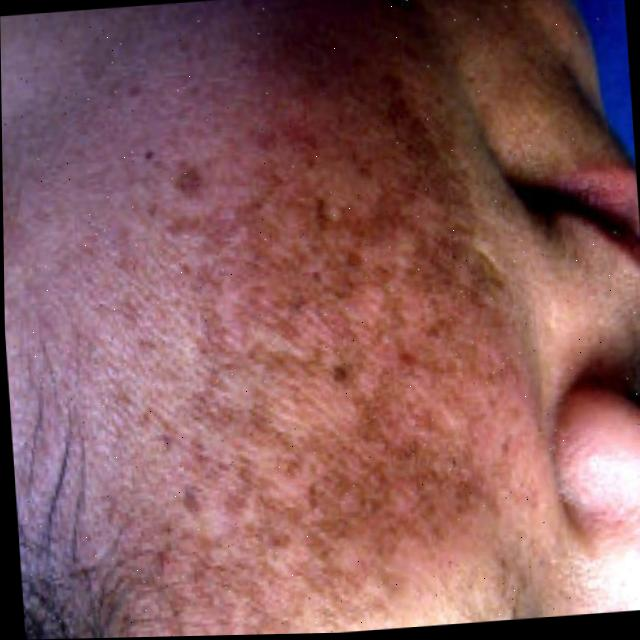Melasma: (214, 99, 509, 522)
